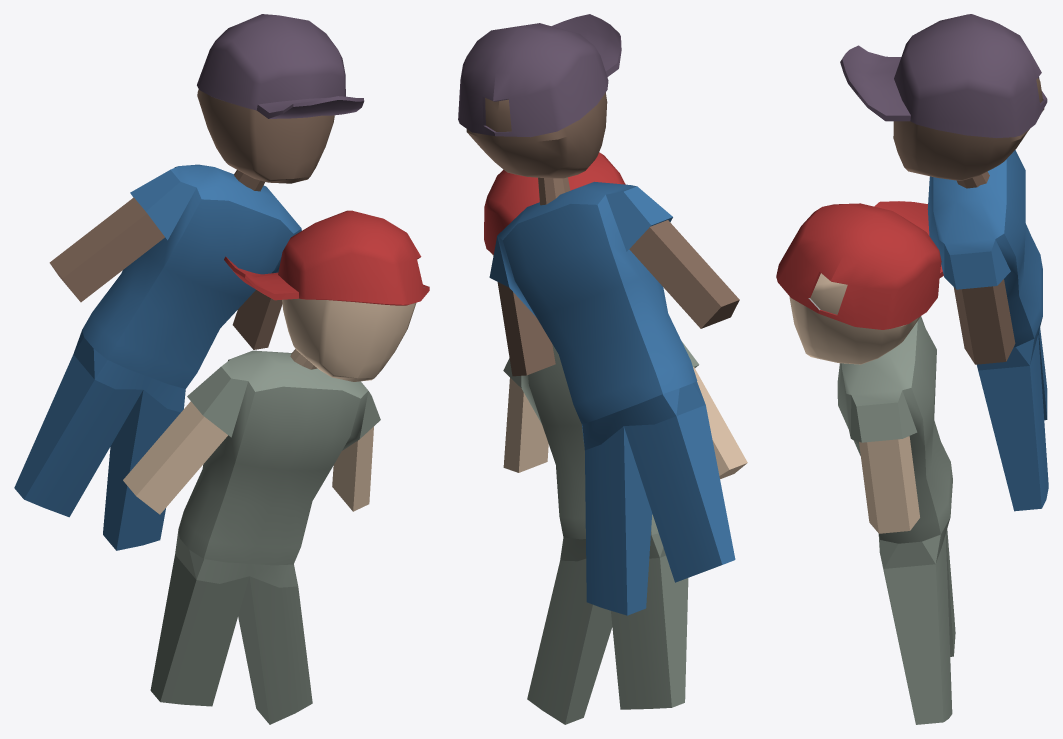
Rendered from Kids_Peering.fbx.
3 views of the same model, side by side, from view 1: azimuth 30°, elevation 25°; view 2: azimuth 150°, elevation 25°; view 3: azimuth 270°, elevation 25° (orthographic). The views are drawn at different scales.
Parts seen in each view (by area): view 1: pasted__loftedSurface17; view 2: pasted__loftedSurface17; view 3: pasted__loftedSurface17.
Boxes of the visible parts, x1,y1,x2,y2 form: pasted__loftedSurface17: (14, 14, 429, 724); pasted__loftedSurface17: (458, 14, 747, 724); pasted__loftedSurface17: (776, 14, 1048, 724).
Size of the model in its own units: 2.91 by 6.07 by 2.12.
